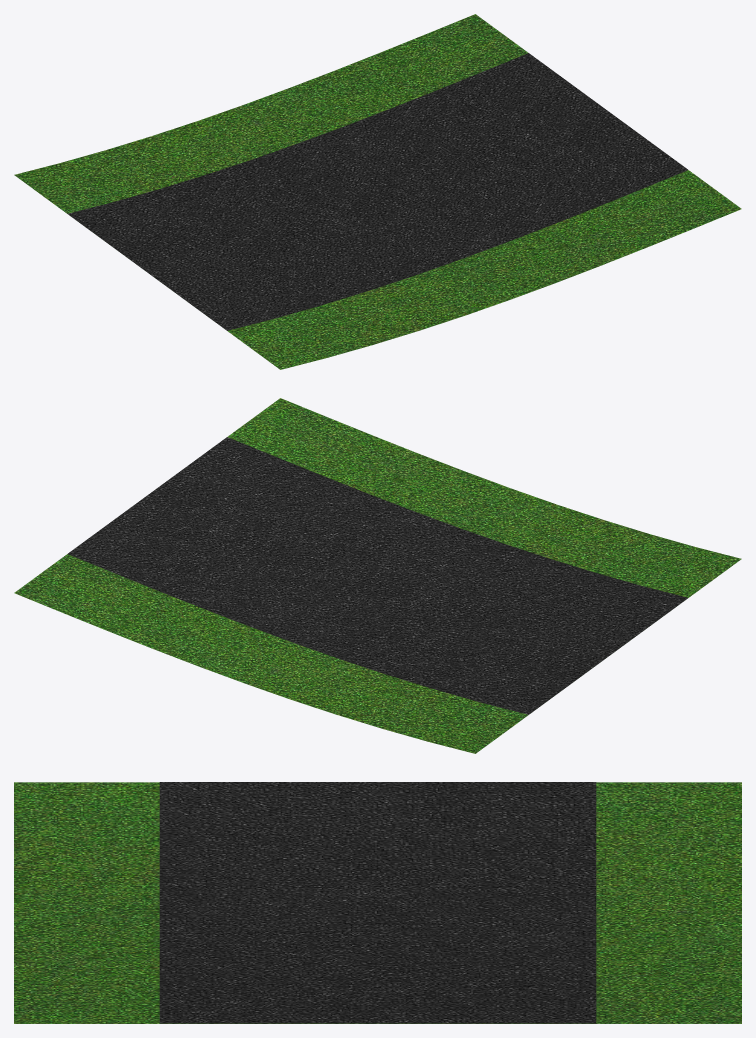
File: track_ramp_down_flat.obj
The picture shows the model from 3 angles, top to bottom: view 1: azimuth 30°, elevation 25°; view 2: azimuth 150°, elevation 25°; view 3: azimuth 270°, elevation 25°; orthographic projection. The views are drawn at different scales.
Parts seen in each view (by area): view 1: Road_Plane.002, Grass_Plane.015; view 2: Road_Plane.002, Grass_Plane.015; view 3: Road_Plane.002, Grass_Plane.015.
Part boxes in pixels (box(x1,y1,x2,y2)): Road_Plane.002: box(68, 53, 687, 330); Grass_Plane.015: box(14, 14, 741, 369); Road_Plane.002: box(68, 437, 687, 714); Grass_Plane.015: box(14, 398, 741, 753); Road_Plane.002: box(159, 782, 596, 1023); Grass_Plane.015: box(14, 782, 741, 1023).
Bounding box in the file's own units: 10 × 1 × 10.
